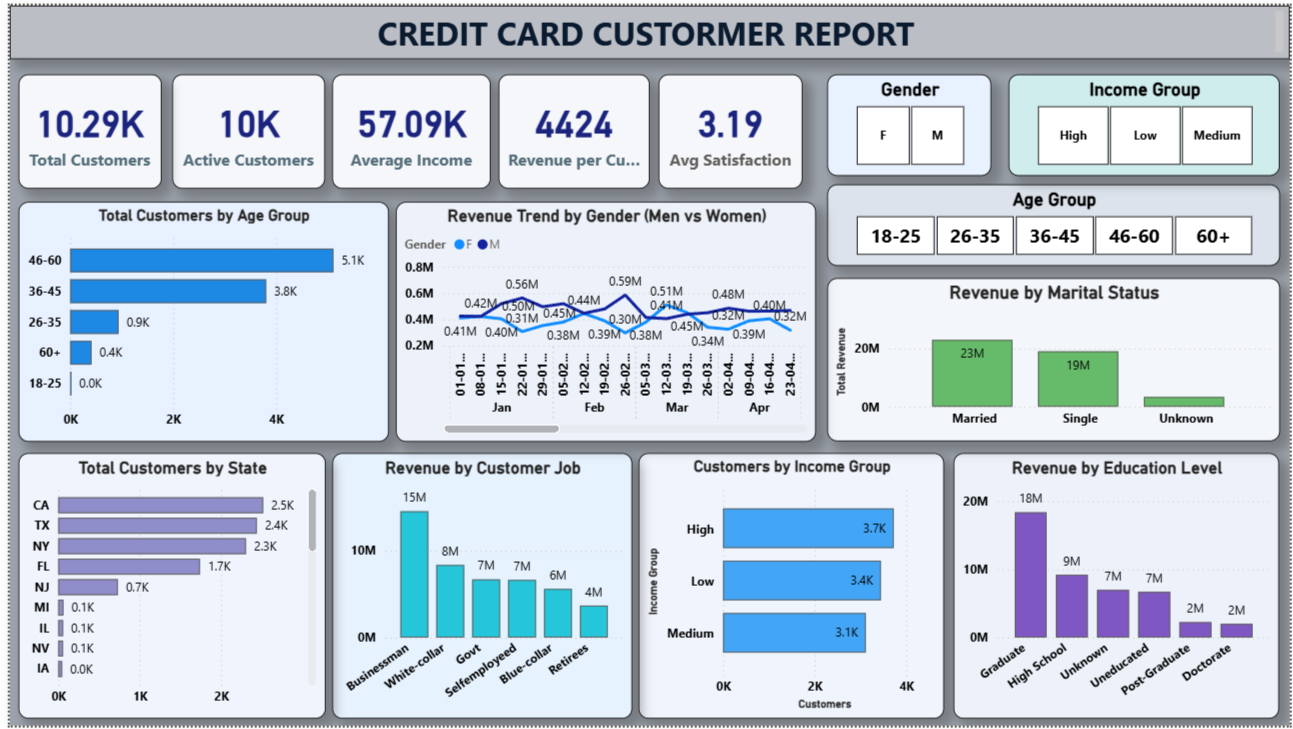

The dashboard page shown, as its layout file describes it:
{"tool":"powerbi","page":{"name":"Credit Card Customer","canvas":[1280,720],"ordinal":0},"visuals":[{"type":"textbox","box":[0,0,1280,53.5],"z":0},{"type":"card","fields":{"Values":["CreditCard.Active Customers"]},"box":[203.9,68.8,155.8,118.2],"z":1000},{"type":"card","fields":{"Values":["CountNonNull(customer.CustomerID)"]},"box":[9.1,68.8,184.4,118.2],"z":2000},{"type":"card","fields":{"Values":["Avg(customer.Income)"]},"box":[368.6,68.6,190,118.6],"z":3000},{"type":"card","fields":{"Values":["customer.Revenue per customer"]},"box":[567.1,68.6,181.4,118.6],"z":4000},{"type":"slicer","title":"Gender","fields":{"Values":["customer.Gender"]},"box":[761,68.8,205.2,83.1],"z":5000},{"type":"slicer","title":"Age Group","fields":{"Values":["customer.Age_Group"]},"box":[761,162.3,509.1,97.4],"z":6000},{"type":"slicer","title":"Income Group","fields":{"Values":["customer.Income_Group"]},"box":[975.3,68.8,294.8,83.1],"z":7000},{"type":"clusteredBarChart","title":"Customers by Income Group","fields":{"Y":["CountNonNull(customer.CustomerID)"],"Category":["customer.Income_Group"]},"box":[388.6,197.1,360,240],"z":8000},{"type":"clusteredBarChart","title":"Total Customers by Age Group","fields":{"Y":["CountNonNull(customer.CustomerID)"],"Category":["customer.Age_Group"]},"box":[8.6,197.1,370,240],"z":9000},{"type":"columnChart","title":"Revenue by Education Level","fields":{"Category":["customer.Education_Level"],"Y":["CreditCard.Total Revenue"]},"box":[826.2,447.5,443.8,266.2],"z":10000},{"type":"clusteredColumnChart","title":"Revenue by Customer Job","fields":{"Category":["customer.Customer_Job"],"Y":["CreditCard.Total Revenue"]},"box":[428.8,447.5,387.5,267.5],"z":11000},{"type":"columnChart","title":"Revenue by Marital Status","fields":{"Category":["customer.Marital_Status"],"Y":["CreditCard.Total Revenue"]},"box":[761,272.7,509.1,163.6],"z":12000},{"type":"clusteredBarChart","title":"Total Customers by State","fields":{"Category":["customer.state_cd"],"Y":["CountNonNull(customer.CustomerID)"]},"box":[8.8,447.5,406.2,267.5],"z":13000}]}

Visuals, with their boxes in screenshot pixels (x1, y1, x2, y2), scaled from the page's 1280x720 canvas onto the 1293x729 screenshot:
textbox: <region>0, 0, 1292, 54</region>
card - CreditCard.Active Customers: <region>206, 70, 363, 189</region>
card - CountNonNull(customer.CustomerID): <region>9, 70, 195, 189</region>
card - Avg(customer.Income): <region>372, 69, 564, 190</region>
card - customer.Revenue per customer: <region>573, 69, 756, 190</region>
"Gender" slicer: <region>769, 70, 976, 154</region>
"Age Group" slicer: <region>769, 164, 1283, 263</region>
"Income Group" slicer: <region>985, 70, 1283, 154</region>
"Customers by Income Group" clusteredBarChart: <region>393, 200, 756, 443</region>
"Total Customers by Age Group" clusteredBarChart: <region>9, 200, 382, 443</region>
"Revenue by Education Level" columnChart: <region>835, 453, 1283, 723</region>
"Revenue by Customer Job" clusteredColumnChart: <region>433, 453, 825, 724</region>
"Revenue by Marital Status" columnChart: <region>769, 276, 1283, 442</region>
"Total Customers by State" clusteredBarChart: <region>9, 453, 419, 724</region>
